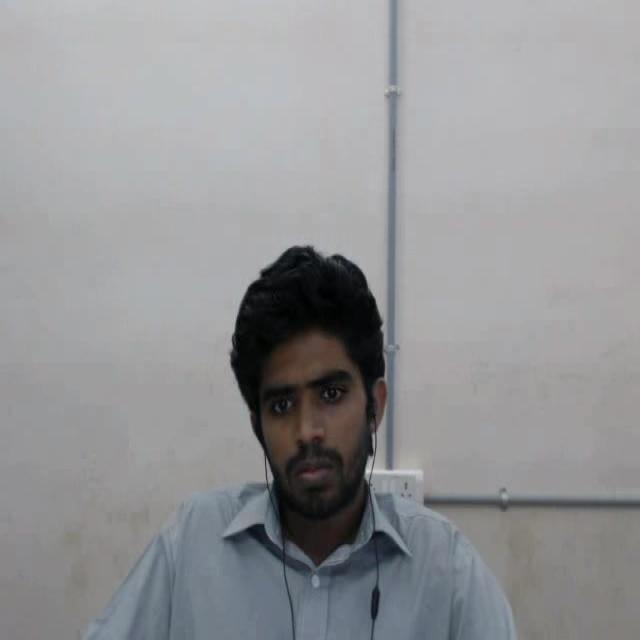Engaged: (210, 232, 440, 550)
